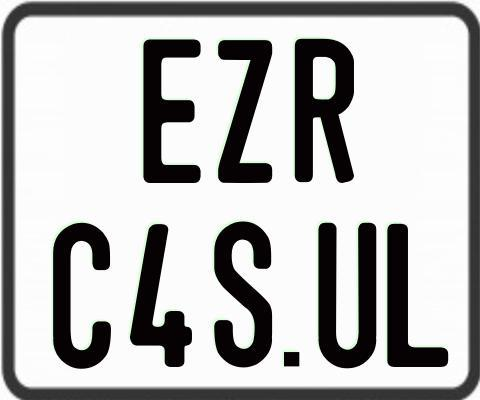4: (128, 221, 195, 365)
C: (51, 220, 110, 368)
E: (140, 36, 198, 181)
L: (384, 221, 446, 368)
R: (295, 38, 356, 186)
S: (211, 221, 273, 368)
U: (317, 223, 375, 369)
Z: (216, 37, 274, 181)
